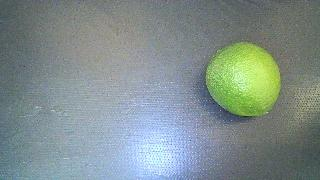EXPORTACION: (205, 42, 281, 116)
